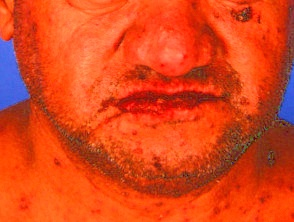SJS-TEN: (86, 65, 245, 128), (172, 7, 236, 71), (228, 0, 264, 32)
